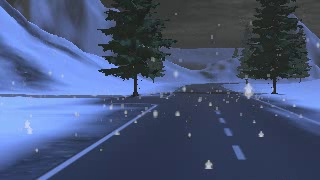Lane: (44, 83, 318, 179)
